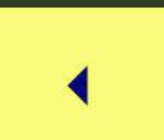ImgButton: (1, 1, 163, 139)
